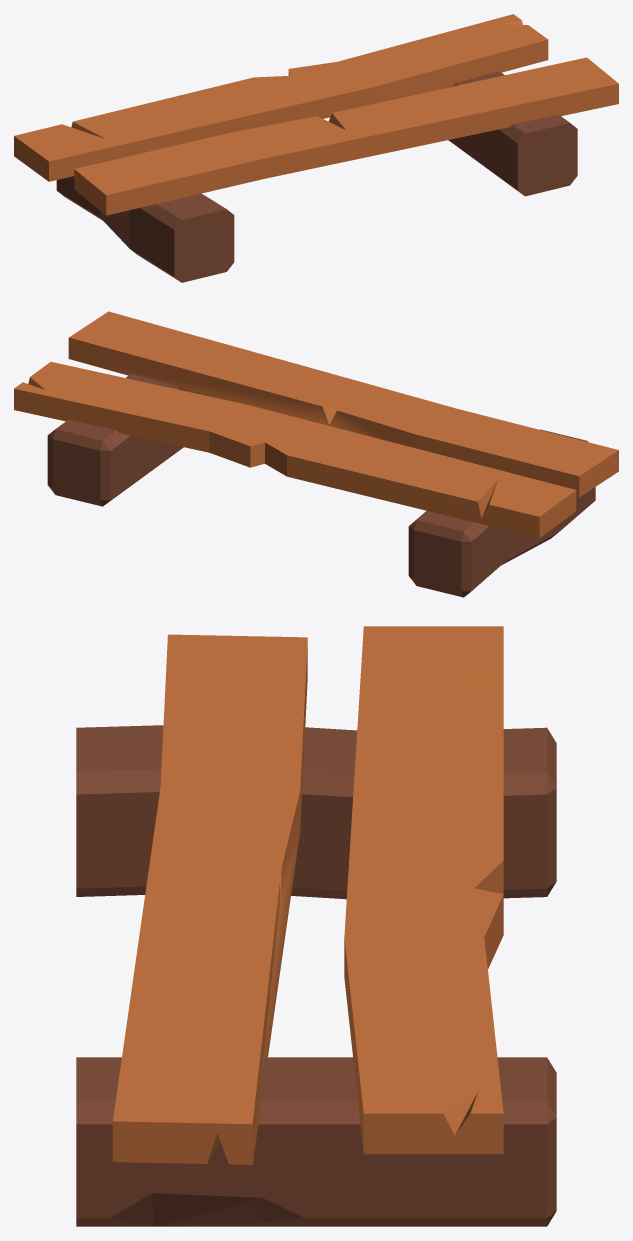
The model's file is wood-shelf.gltf.
3 renders of one model, top to bottom at view 1: azimuth 30°, elevation 25°; view 2: azimuth 150°, elevation 25°; view 3: azimuth 270°, elevation 25°, orthographic. The views are drawn at different scales.
Visible parts, largest first — view 1: Fence.000; view 2: Fence.000; view 3: Fence.000.
Boxes of the visible parts, box(x1,y1,x2,y2) form: Fence.000: box(14, 14, 618, 282); Fence.000: box(14, 311, 618, 597); Fence.000: box(76, 626, 556, 1226).
Size of the model in its own units: 1.84 by 0.288 by 0.75.
Materials: 1 (1 with a texture image).
